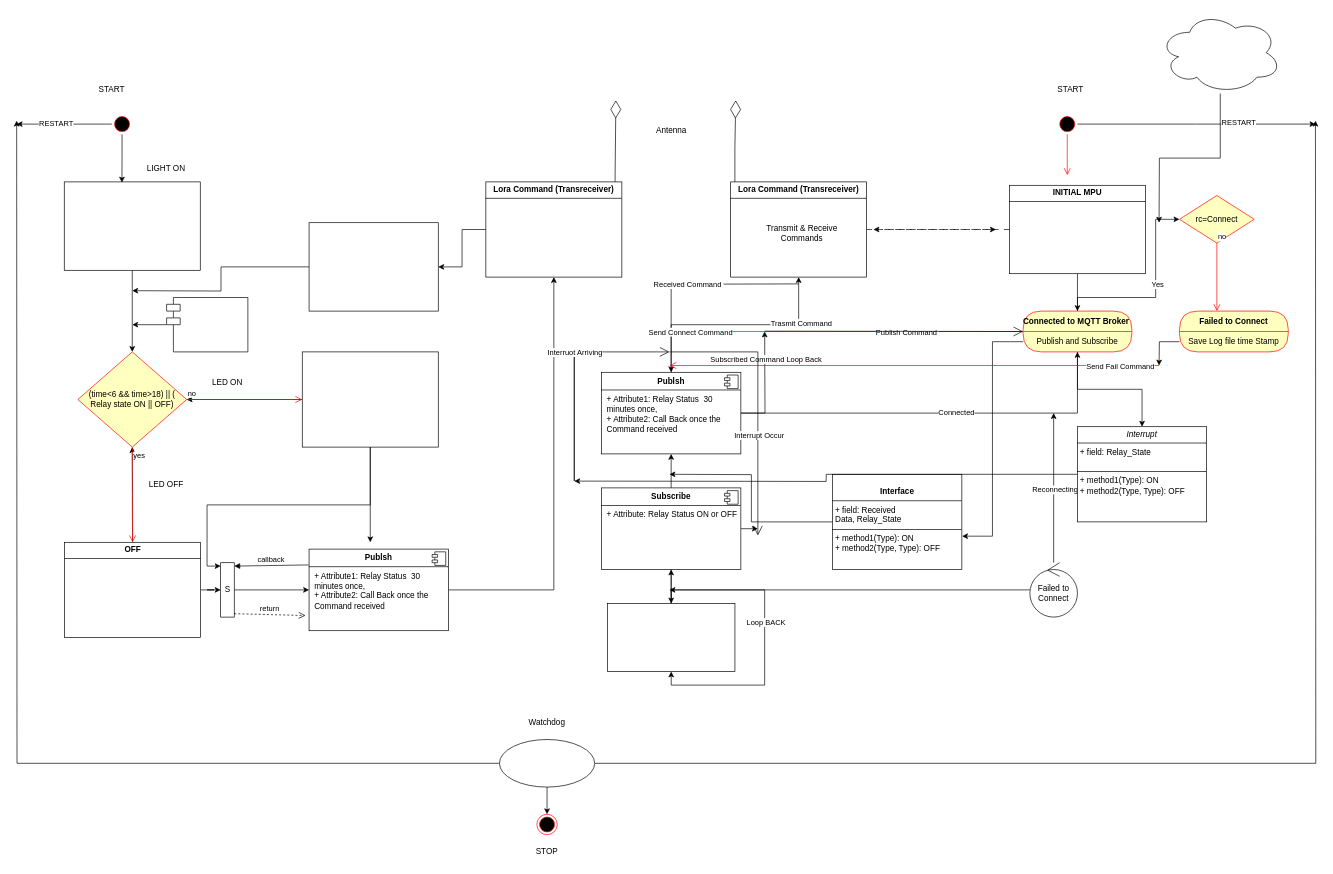
This 1333x874 diagram has some shape labels left out. Here are the shapes that lost their labels. From the top down, the centre of each, then its label:
the point at 1219,52: MQTT BROKER
the point at 132,225: INITIAL MCU
the point at 373,266: Transmit & Receive Commnads
the point at 207,324: Relay
the point at 370,399: ON
the point at 671,637: Subscribe field1 = Read the Subscribed Topic field2 = Read Method and Params
the point at 547,763: Error Occured
